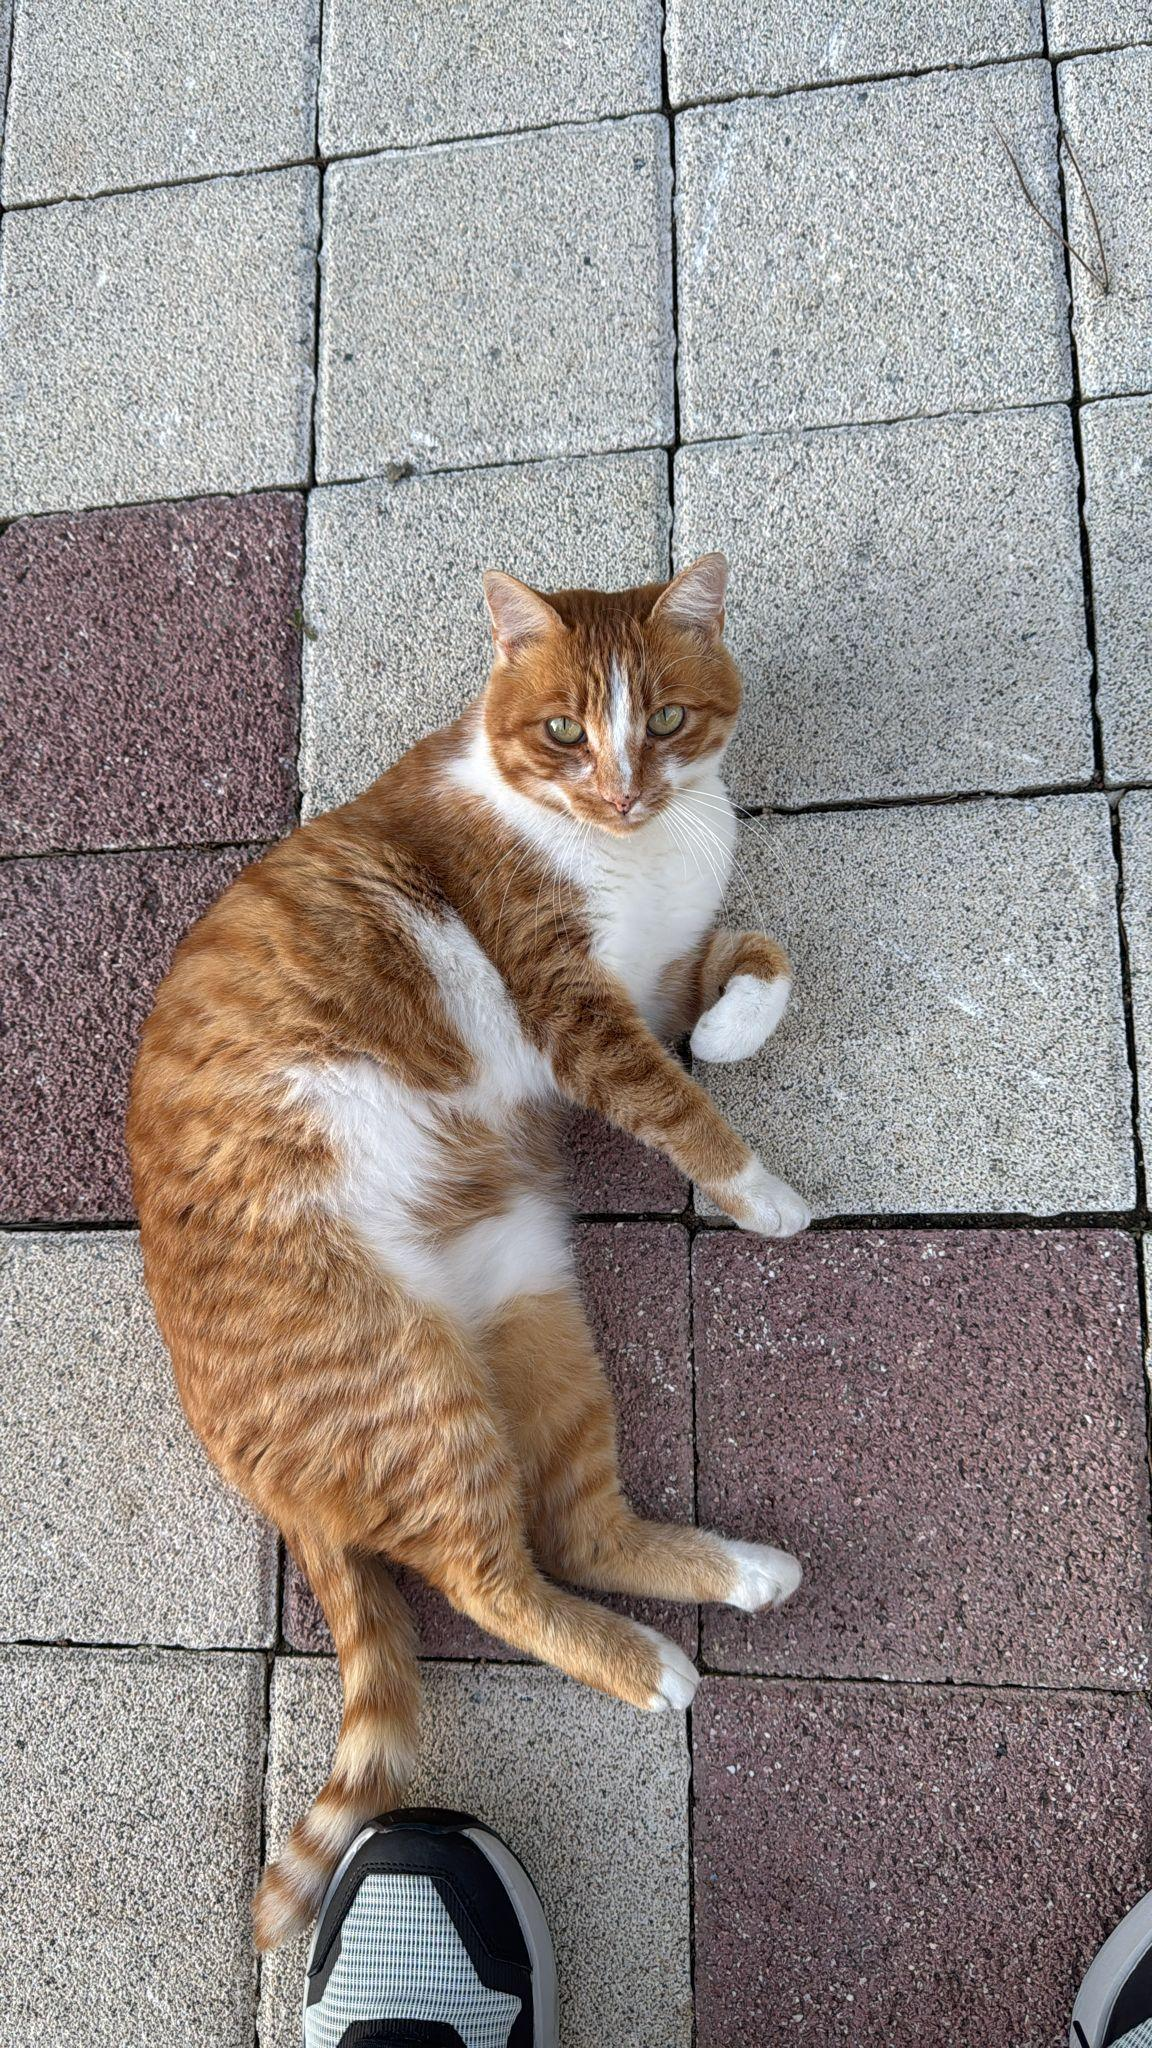kedo: (134, 554, 798, 1803)
